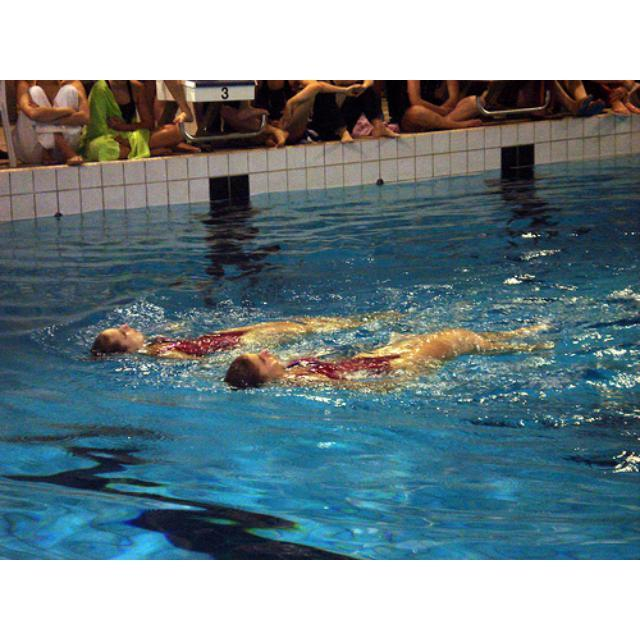human: (220, 319, 555, 393), (89, 297, 402, 361)
